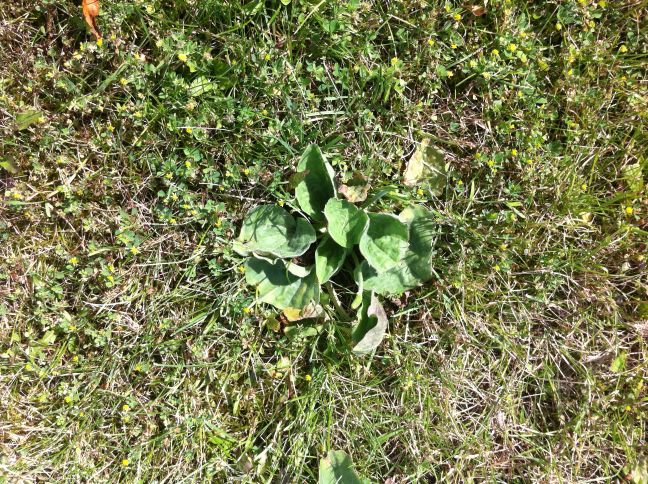weed1: (228, 137, 439, 336)
